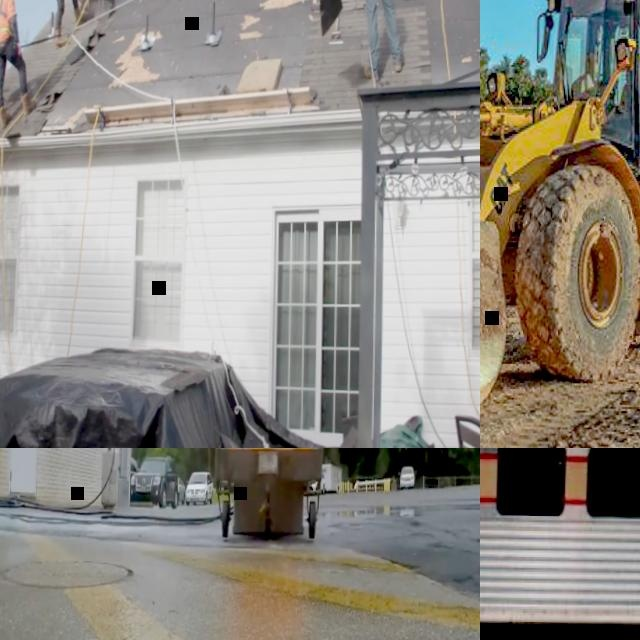Person: (338, 0, 407, 81), (0, 0, 39, 128), (52, 0, 90, 48)
Safety Vest: (0, 0, 14, 42)
machinery: (480, 0, 640, 439)
vehicle: (131, 455, 179, 509), (185, 471, 214, 505), (399, 466, 417, 488), (310, 474, 326, 494), (131, 456, 138, 483), (179, 479, 186, 505)
